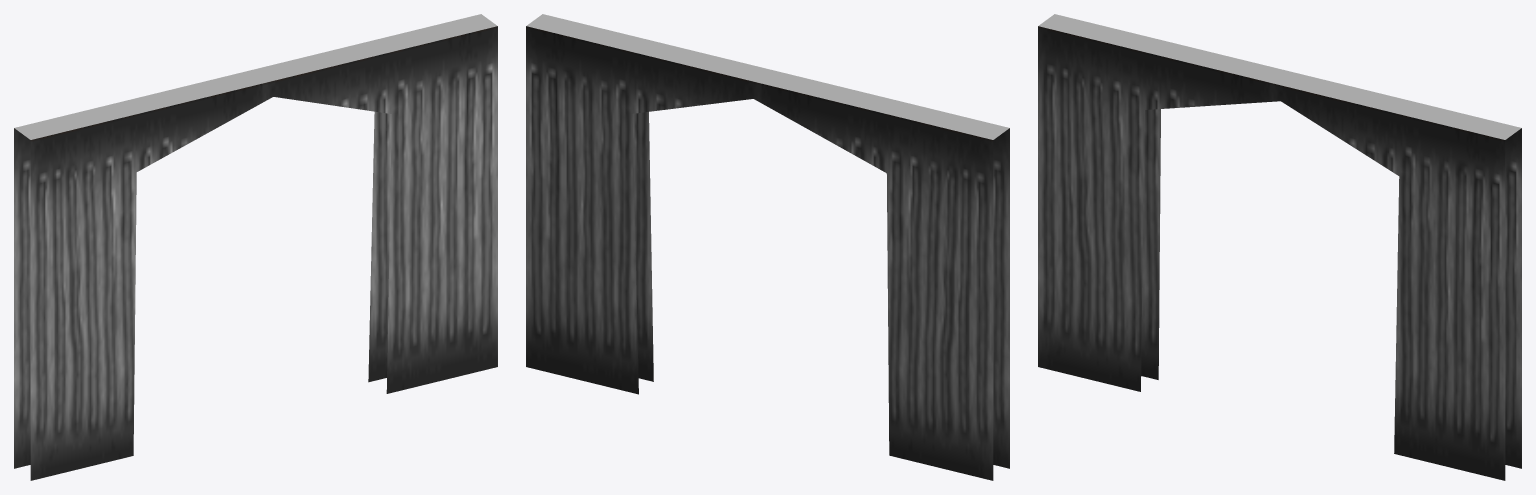
The model's file is W_I3_xx_TürGroß [Wellblech]_796.glb.
3 renders of one model, left to right at view 1: azimuth 30°, elevation 25°; view 2: azimuth 150°, elevation 25°; view 3: azimuth 330°, elevation 25°, orthographic.
Parts seen in each view (by area): view 1: pPlaneShape2, pPlaneShape3, pPlaneShape1; view 2: pPlaneShape3, pPlaneShape2, pPlaneShape1; view 3: pPlaneShape2, pPlaneShape3, pPlaneShape1.
Boxes of the visible parts, x1,y1,x2,y2 form: pPlaneShape2: [30, 26, 497, 480]; pPlaneShape3: [14, 111, 391, 468]; pPlaneShape1: [14, 14, 497, 139]; pPlaneShape3: [526, 26, 993, 480]; pPlaneShape2: [632, 112, 1009, 468]; pPlaneShape1: [526, 14, 1009, 139]; pPlaneShape2: [1038, 26, 1505, 480]; pPlaneShape3: [1141, 109, 1521, 468]; pPlaneShape1: [1038, 14, 1521, 139].
Size of the model in its own units: 0.5 by 0.3486 by 0.0308.
3 materials, 2 textured.
